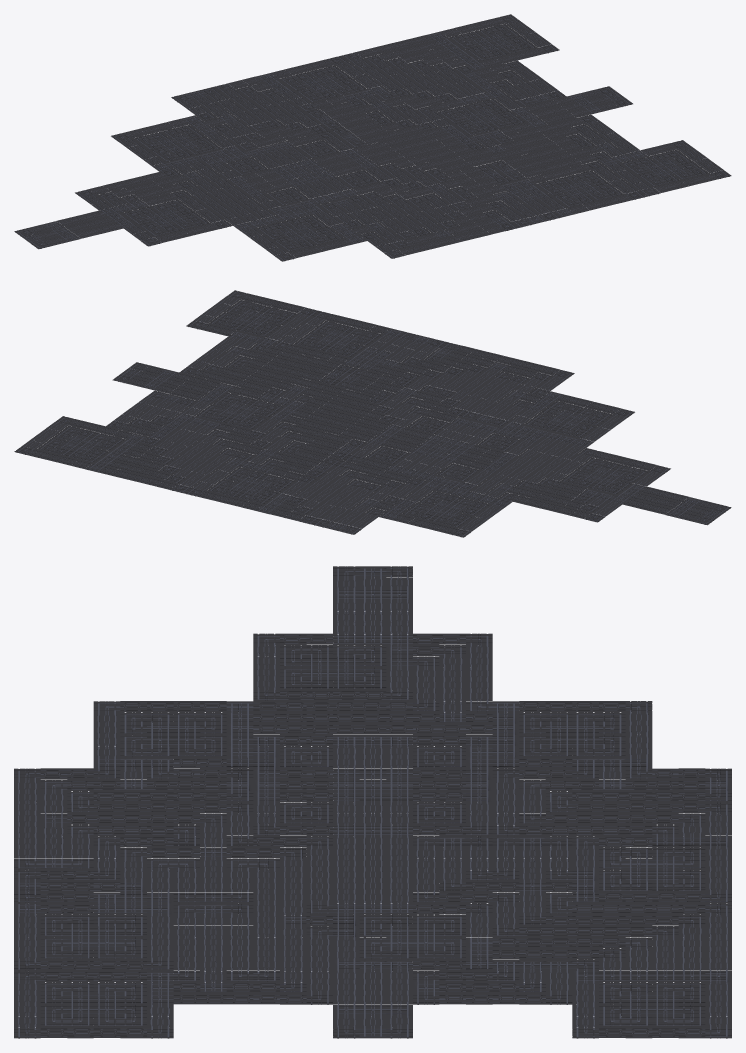
The model's file is SP.fbx_floor.fbx.
3 renders of one model, top to bottom at view 1: azimuth 30°, elevation 25°; view 2: azimuth 150°, elevation 25°; view 3: azimuth 270°, elevation 25°, orthographic. The views are drawn at different scales.
Visible parts, largest first — view 1: floor.001; view 2: floor.001; view 3: floor.001.
Boxes of the visible parts, x1,y1,x2,y2 form: floor.001: [14, 14, 731, 261]; floor.001: [14, 290, 731, 537]; floor.001: [14, 566, 731, 1038].
Bounding box in the file's own units: 17741 × 12.08 × 11405.
